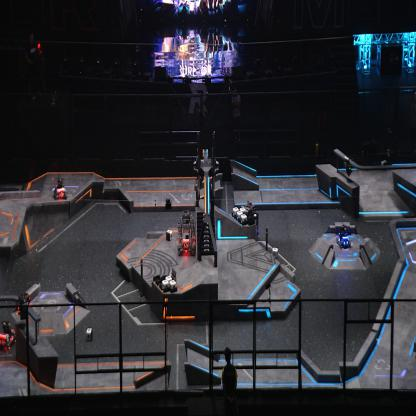car: (177, 210, 198, 256), (239, 202, 260, 238), (0, 319, 16, 352), (336, 223, 352, 249), (53, 176, 68, 199)
